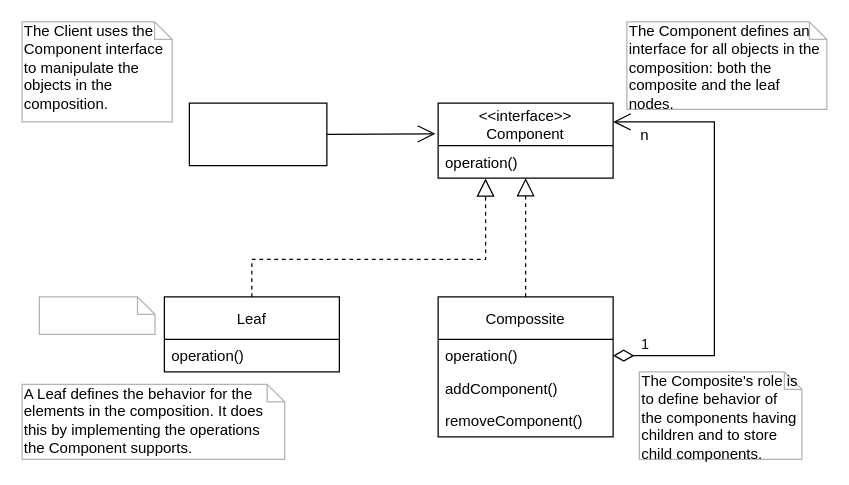
Some shapes in this 849 by 485 pixel diagram are drawn without their labels. Each missing label, with the centre of its shape:
"A Leaf has no children." belongs at pixel 96 315.
"Client" belongs at pixel 257 134.
